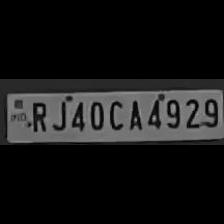0: (86, 97, 104, 130)
2: (182, 94, 200, 130)
4: (68, 96, 86, 132), (144, 95, 162, 131)
9: (200, 95, 220, 129), (162, 96, 180, 130)
A: (125, 96, 143, 132)
C: (105, 97, 124, 131)
J: (50, 97, 68, 133)
R: (26, 97, 48, 132)
